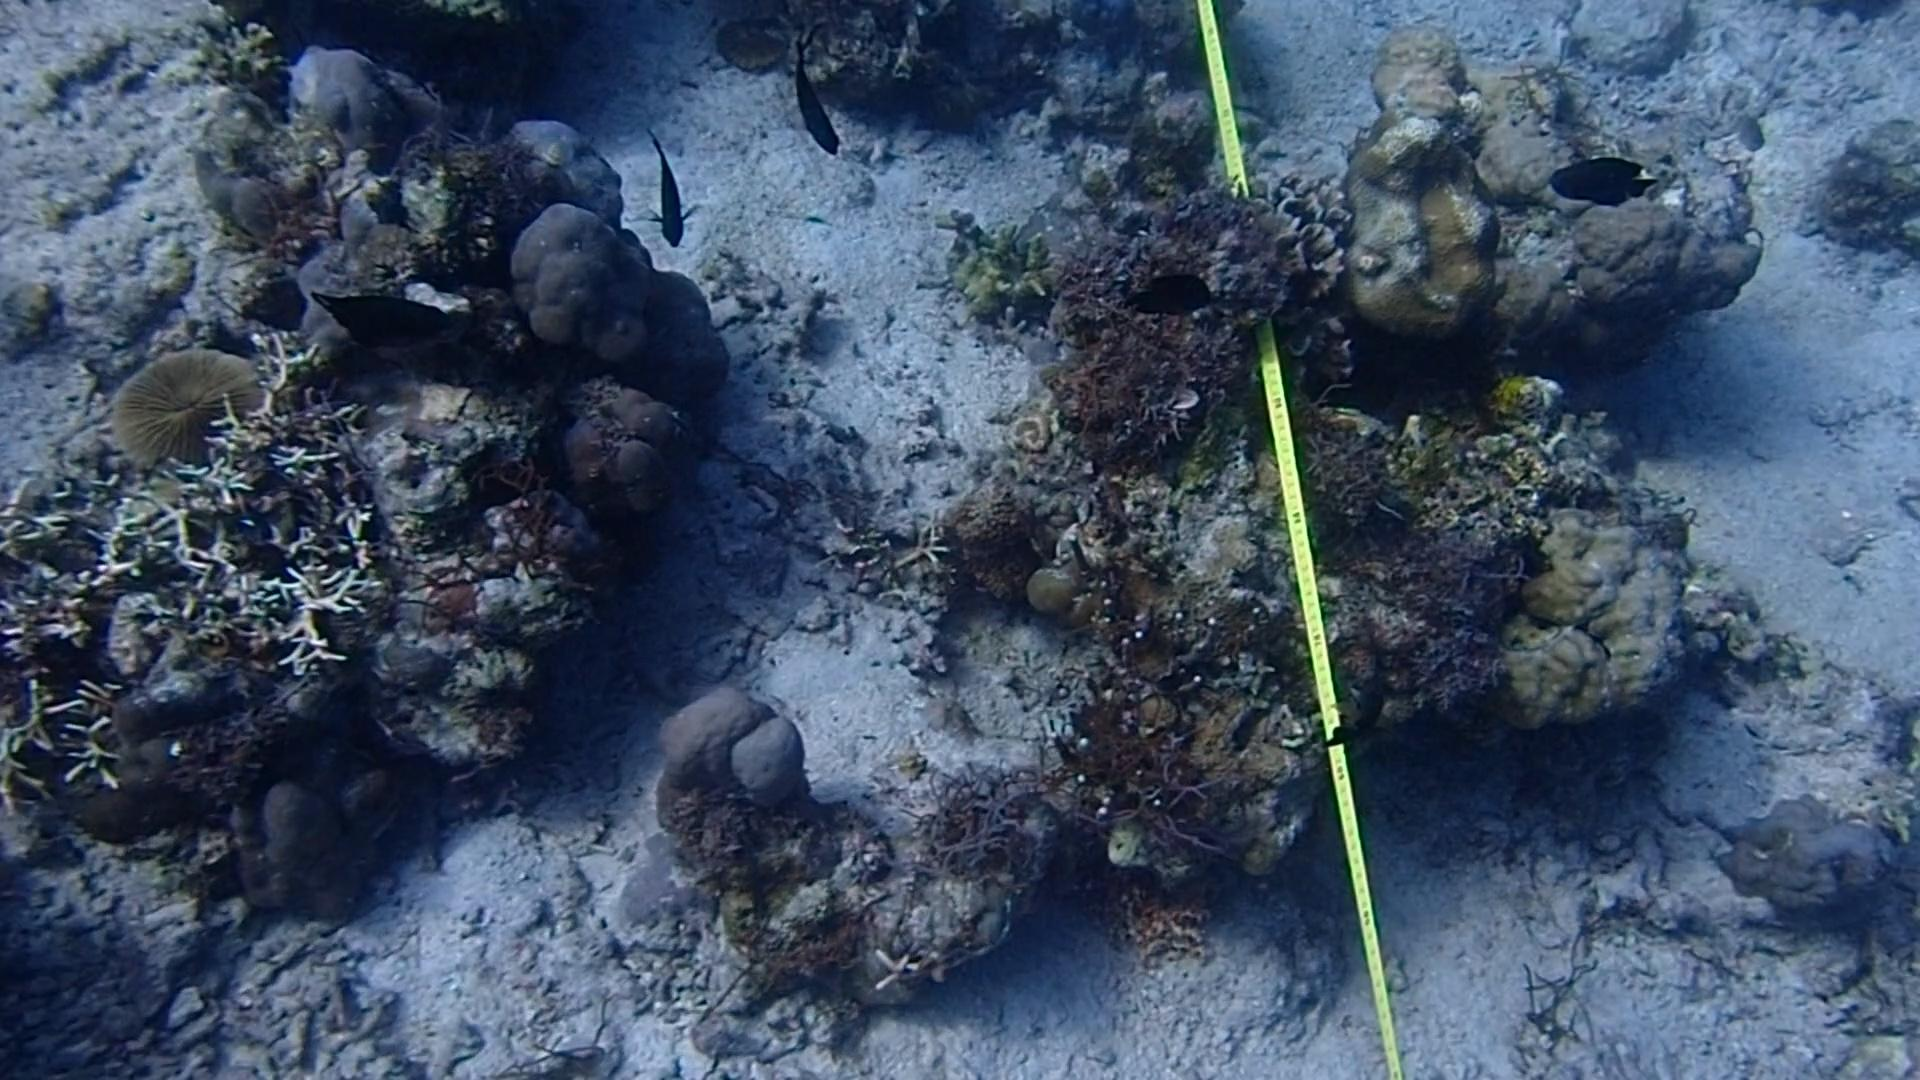Dark Fish: (313, 265, 450, 368), (1543, 141, 1671, 232), (1308, 655, 1408, 771), (622, 125, 709, 249), (773, 38, 849, 164), (1108, 256, 1225, 330)
